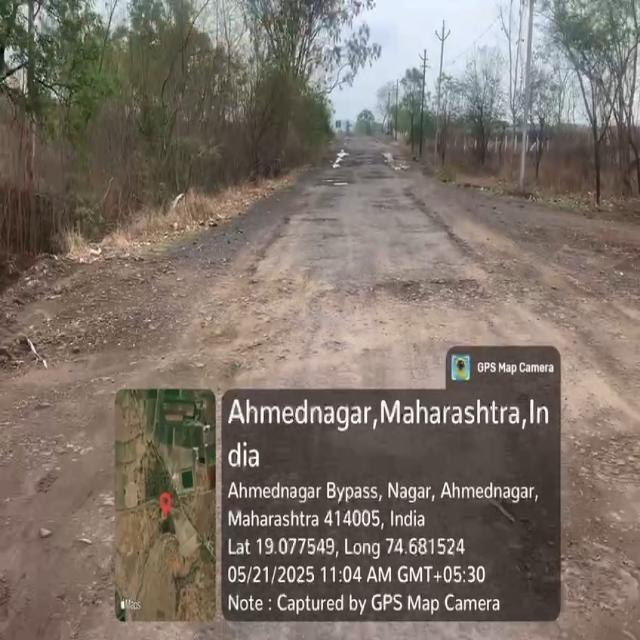damage surface: (208, 266, 493, 351), (20, 376, 110, 498), (575, 436, 630, 595), (304, 214, 339, 222)
pothole: (332, 144, 350, 173), (325, 178, 355, 189)
